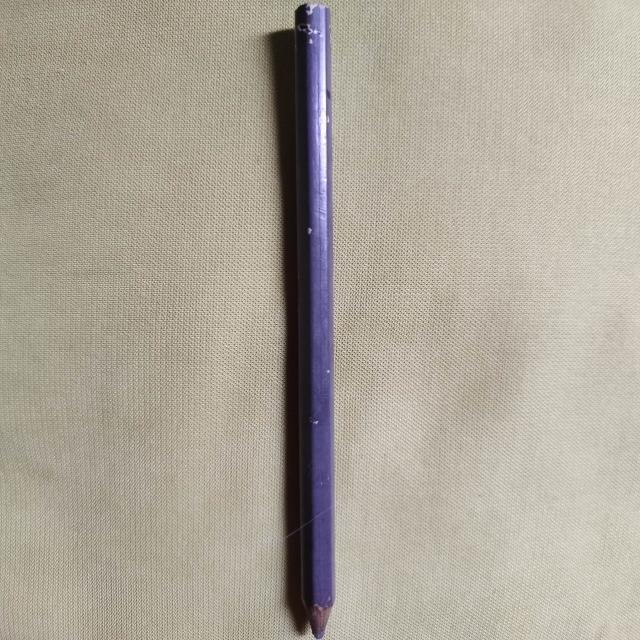pencil: (293, 3, 335, 638)
